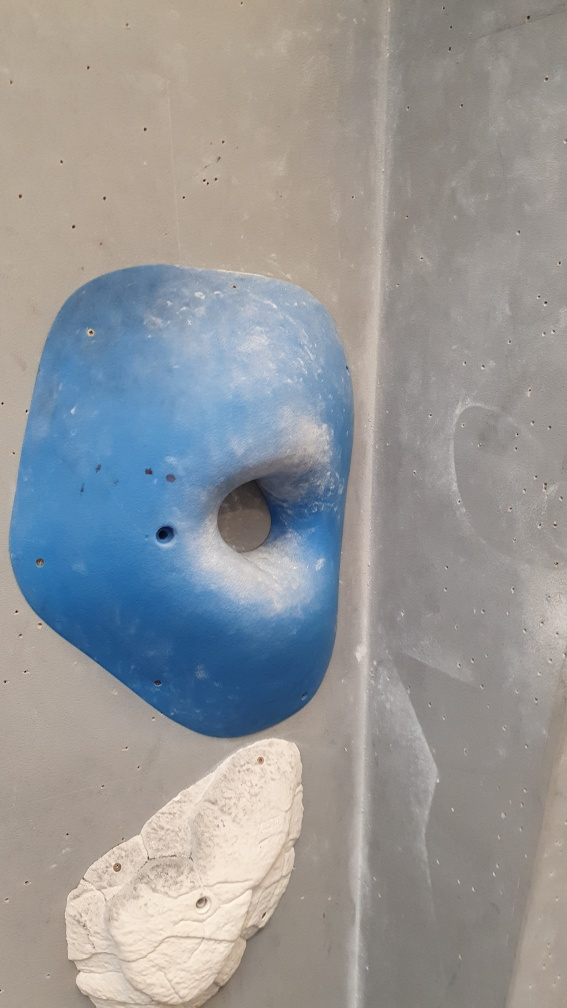Pocket: (7, 262, 360, 743)
